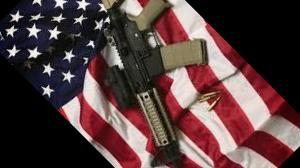larga: (102, 0, 209, 168)
